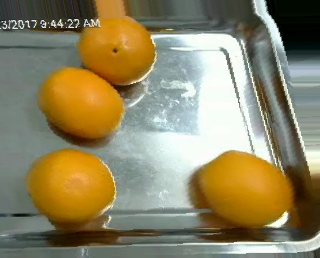Orange: (198, 150, 294, 228), (26, 148, 116, 222), (38, 66, 124, 139)
